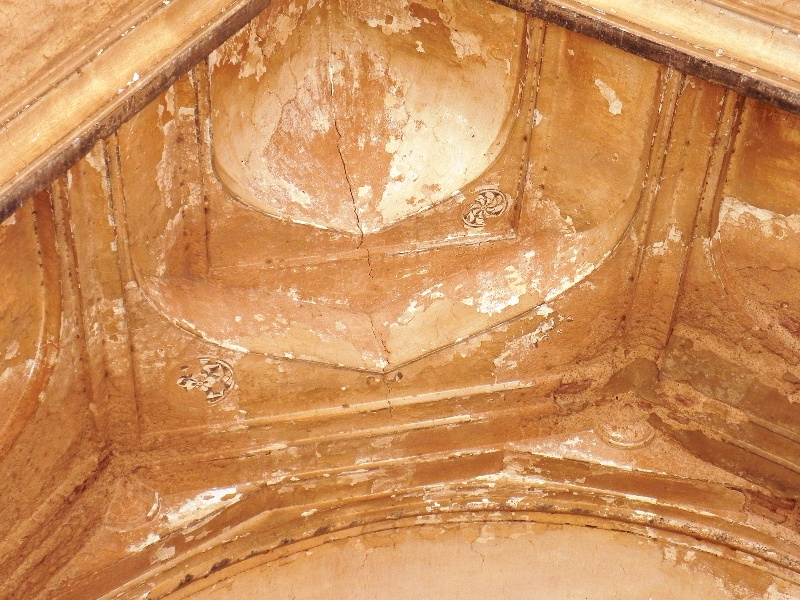Crack: (335, 127, 372, 261)
